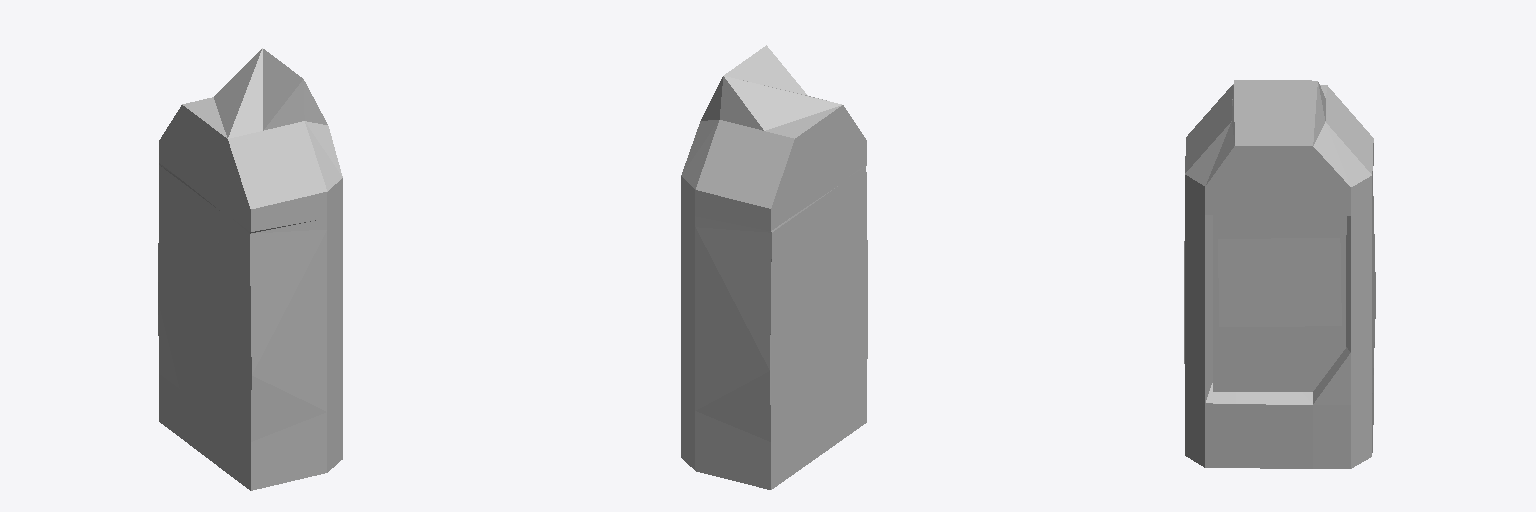
The model's file is atm.obj.
3 renders of one model, left to right at view 1: azimuth 30°, elevation 25°; view 2: azimuth 150°, elevation 25°; view 3: azimuth 270°, elevation 25°, orthographic.
Parts seen in each view (by area): view 1: pCube1; view 2: pCube1; view 3: pCube1, pCube2, pPlane1.
Boxes of the visible parts, box(x1,y1,x2,y2) form: pCube1: box(158, 48, 342, 490); pCube1: box(681, 45, 867, 489); pCube1: box(1184, 80, 1375, 468); pCube2: box(1213, 215, 1346, 391); pPlane1: box(1218, 238, 1341, 326).
Size of the model in its own units: 2.11 by 7.24 by 3.36.